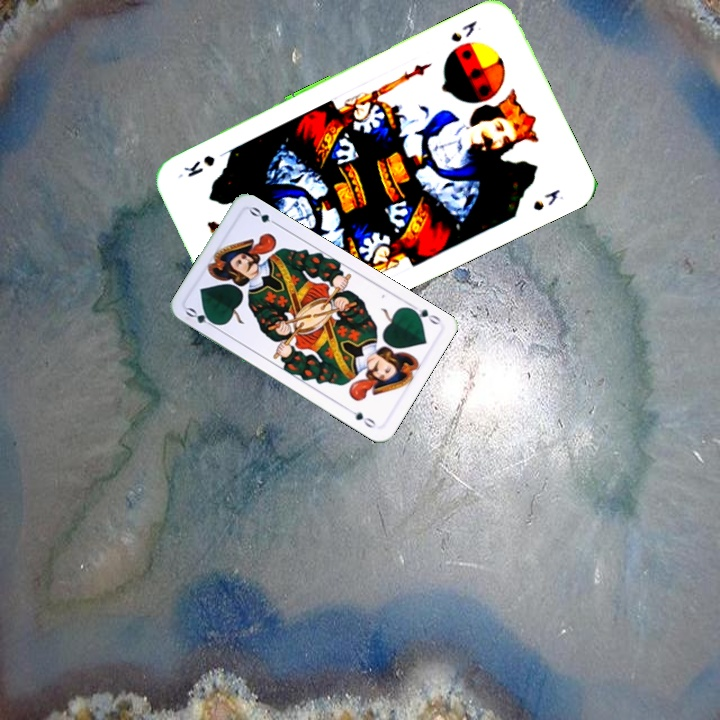GO: (182, 303, 221, 331), (405, 300, 443, 328)
SK: (447, 16, 480, 45)
